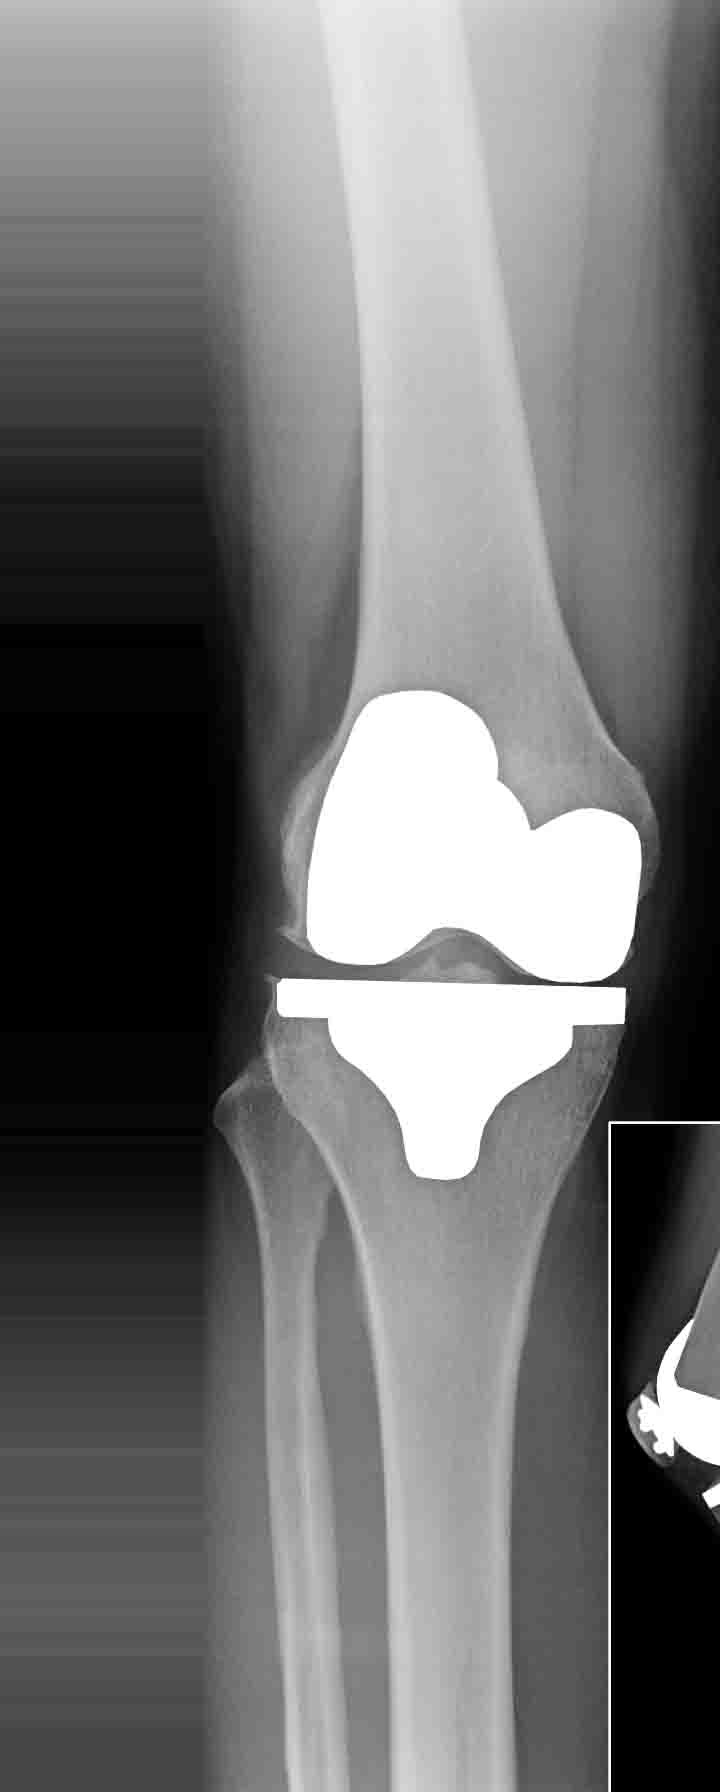Knee-TriathlonTritanium-Stryker: (253, 664, 648, 1185), (629, 1301, 720, 1529)
